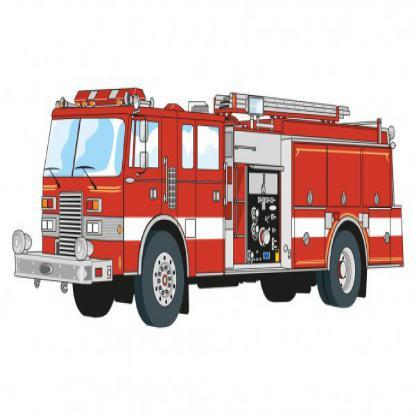fire-truck: (26, 51, 376, 335)
